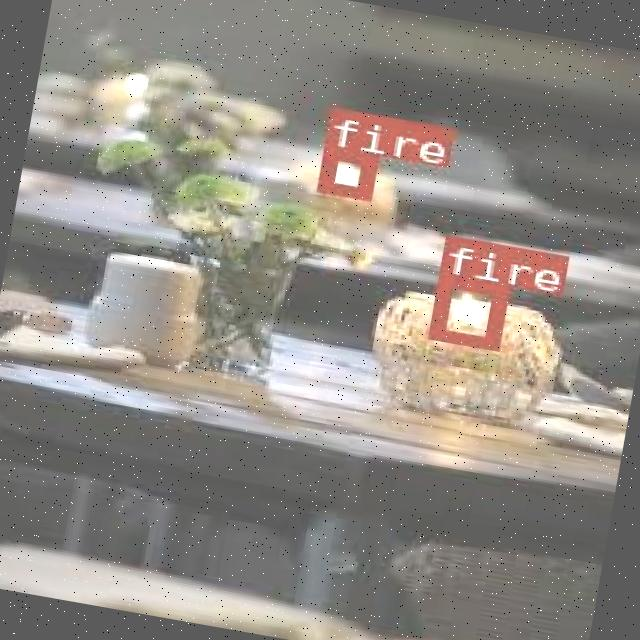fire: (427, 272, 504, 347), (314, 144, 374, 197)
